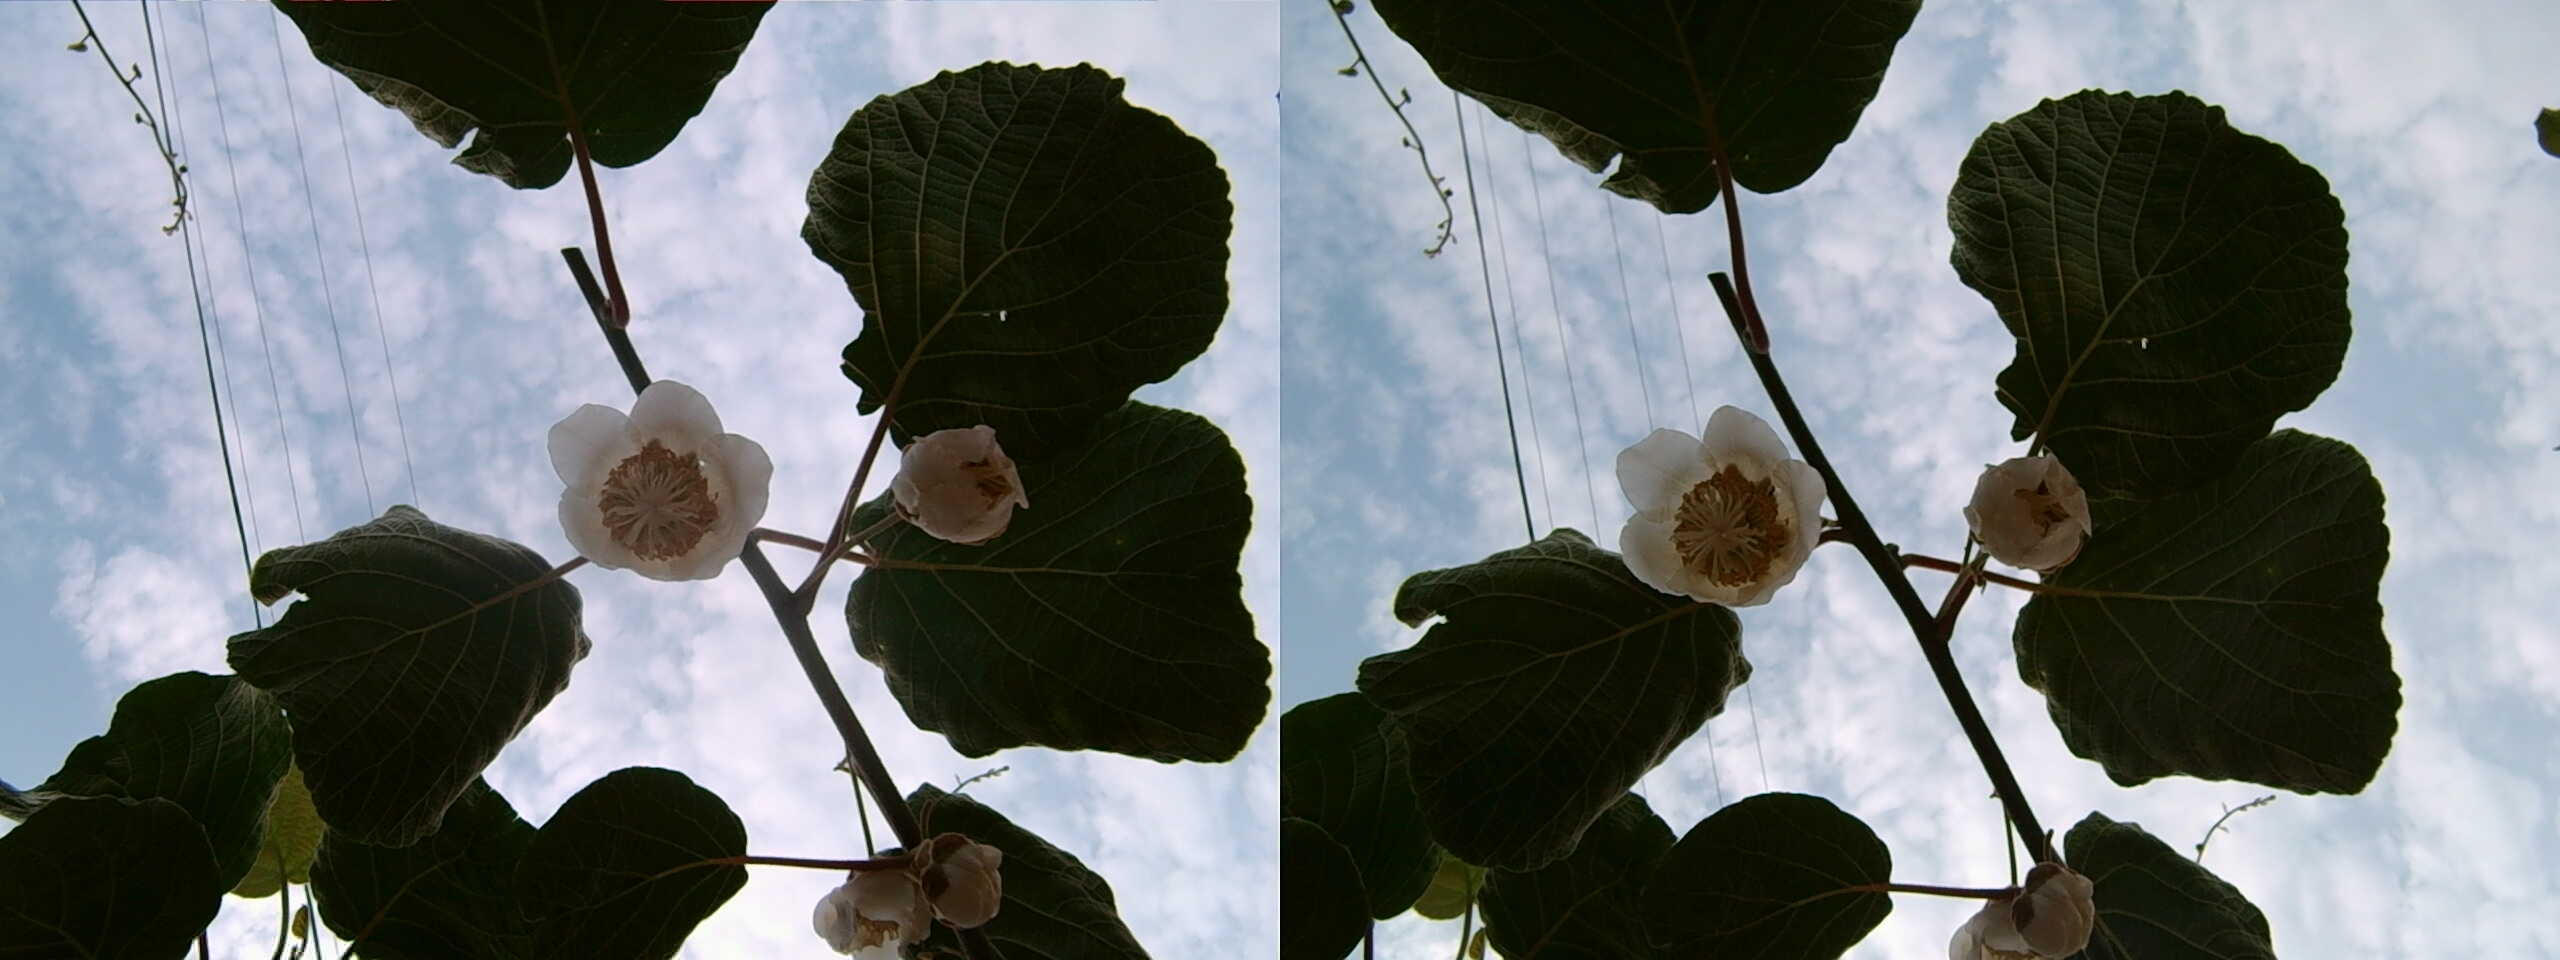flower: (1607, 397, 1825, 620), (539, 379, 772, 588), (883, 423, 1029, 544), (1958, 452, 2090, 571)
